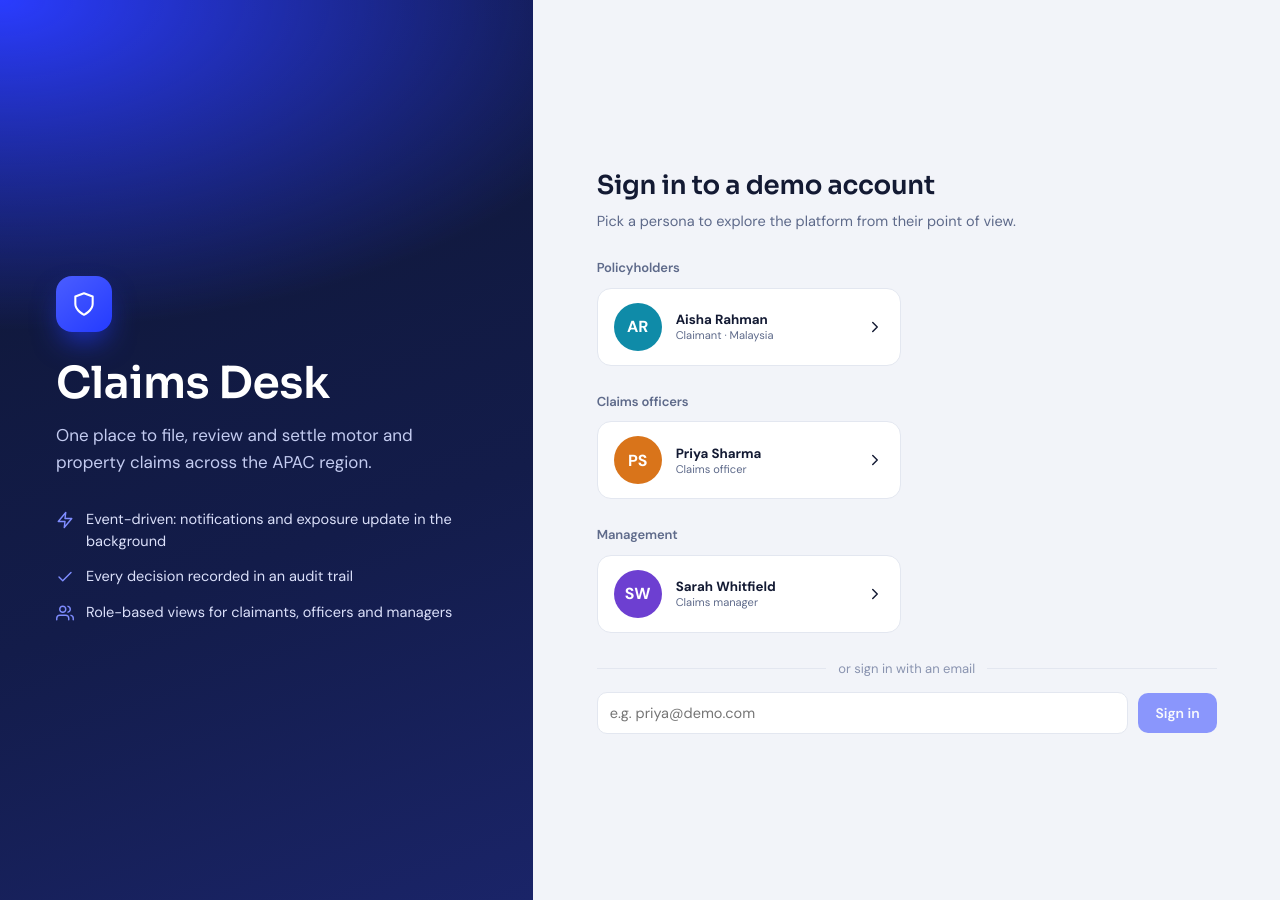
Test: LoginComponent › signing in as a persona › disables every persona while a login is in flight
The image size is (1280, 900).
Click the button "AR Aisha Rahman Claimant · Malaysia": click(749, 327) [597,288,901,366]
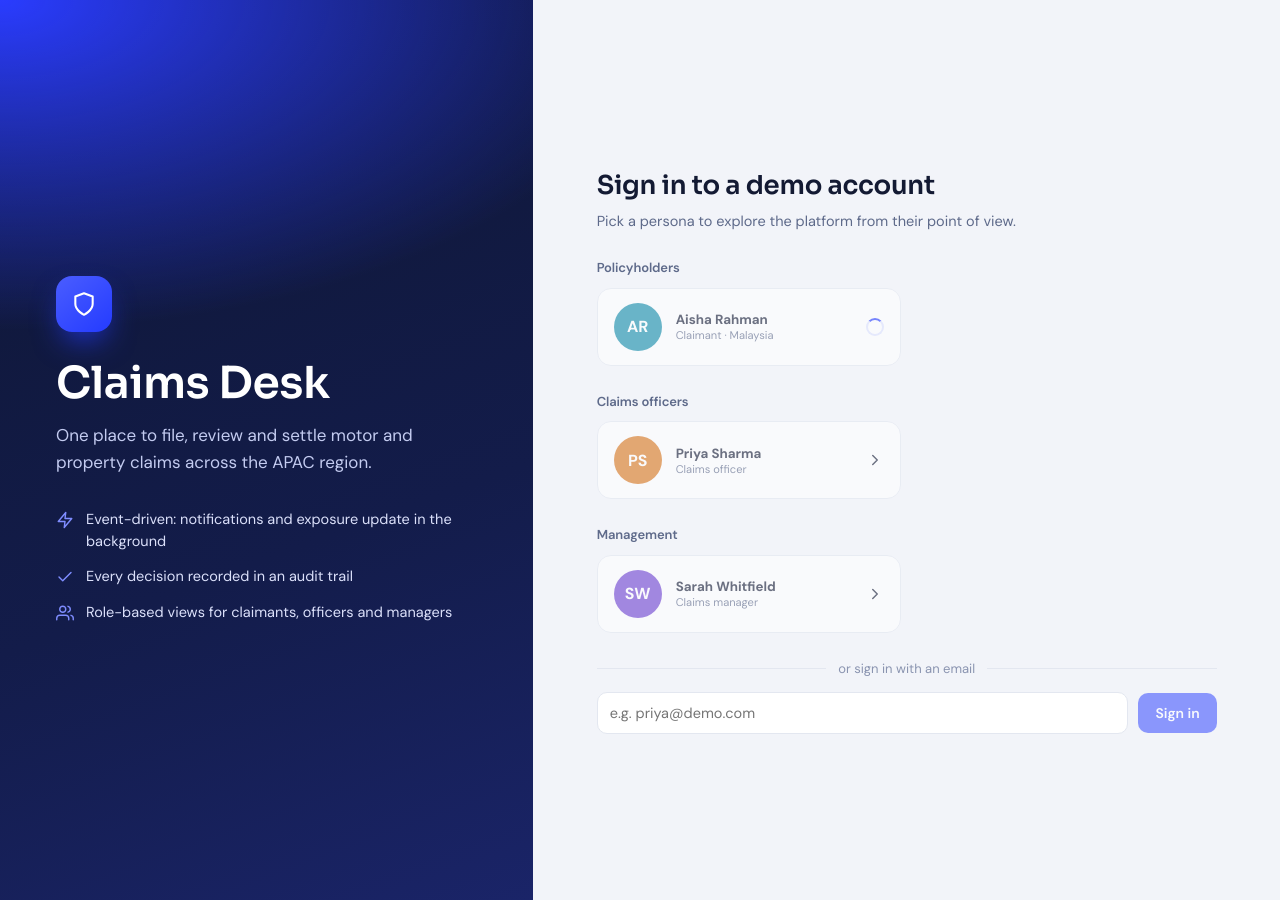
expect the element with class "spinner" is shown: met, box [866,318,884,336]
